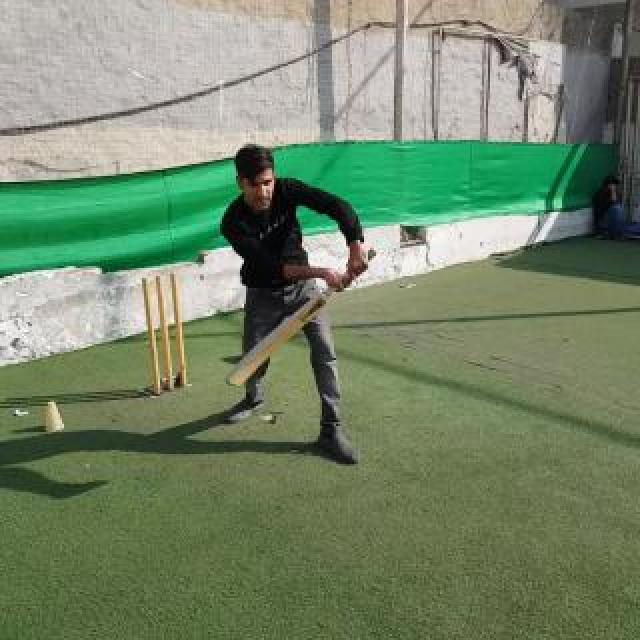bat: (226, 248, 378, 388)
